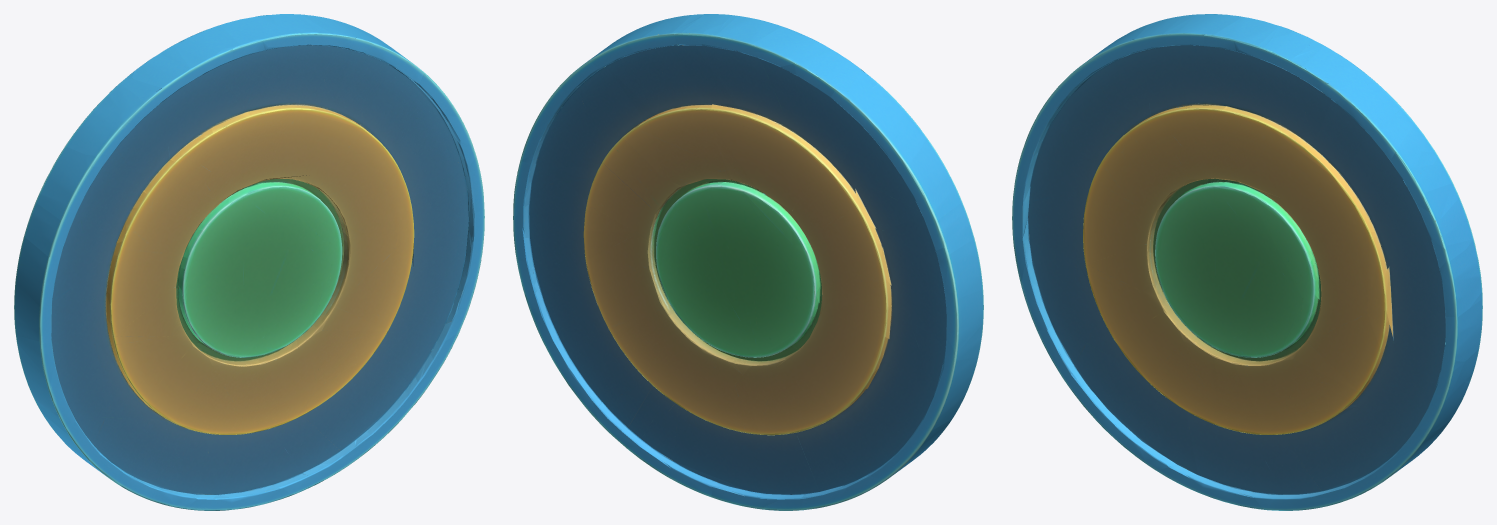
The model's file is target-quality.glb.
3 renders of one model, left to right at view 1: azimuth 30°, elevation 25°; view 2: azimuth 150°, elevation 25°; view 3: azimuth 330°, elevation 25°, orthographic.
Visible parts, largest first — view 1: output_unwrapped; view 2: output_unwrapped; view 3: output_unwrapped.
Boxes of the visible parts, box(x1,y1,x2,y2) form: output_unwrapped: box(14, 14, 484, 510); output_unwrapped: box(513, 14, 983, 510); output_unwrapped: box(1012, 14, 1482, 510).
Bounding box in the file's own units: 1.9 × 1.9 × 0.2002.
1 material, 1 textured.
